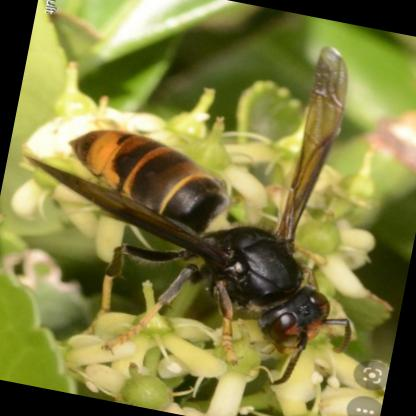asian: (0, 5, 393, 392)
